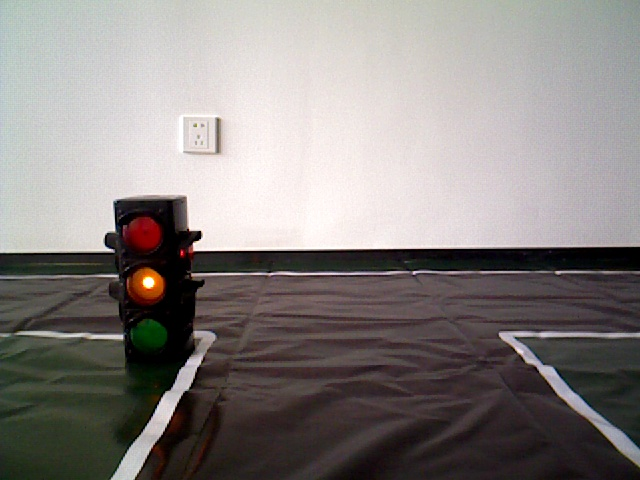yellow: (108, 193, 197, 360)
